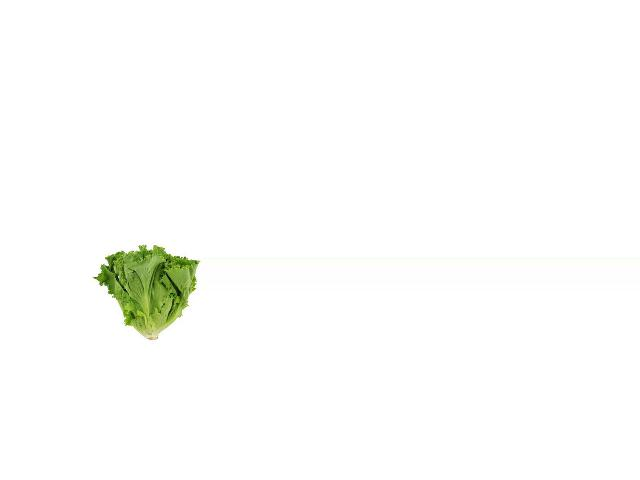lettuce: (98, 240, 200, 342)
